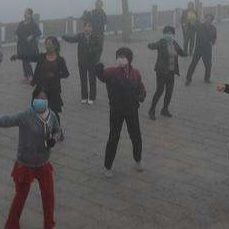person: (3, 89, 60, 228), (95, 46, 146, 173), (10, 36, 71, 116), (60, 20, 104, 106), (145, 25, 185, 119), (184, 14, 217, 86), (16, 8, 43, 82), (179, 1, 198, 57), (81, 1, 107, 29)
